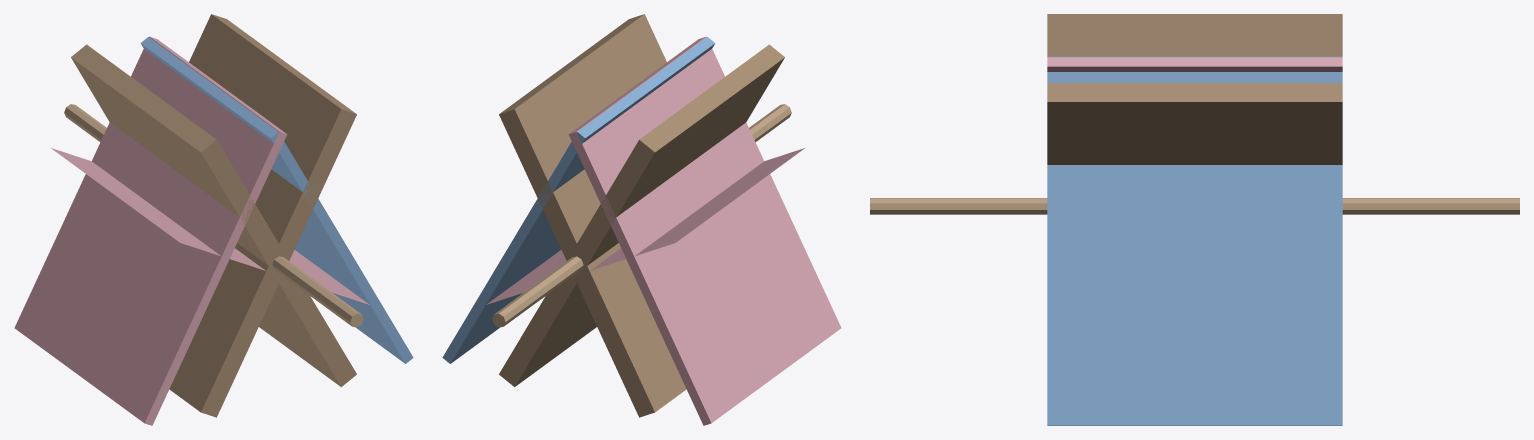
Rendered from kid_tenda2.glb.
The picture shows the model from 3 angles, left to right: view 1: azimuth 30°, elevation 25°; view 2: azimuth 150°, elevation 25°; view 3: azimuth 270°, elevation 25°; orthographic projection. The views are drawn at different scales.
Visible parts, largest first — view 1: KID_TENDA2_v01; view 2: KID_TENDA2_v01; view 3: KID_TENDA2_v01.
Boxes of the visible parts, x1,y1,x2,y2 form: KID_TENDA2_v01: (14,14,413,425); KID_TENDA2_v01: (442,14,841,425); KID_TENDA2_v01: (870,14,1519,425).
Size of the model in its own units: 1.19 by 1.18 by 2.2.
